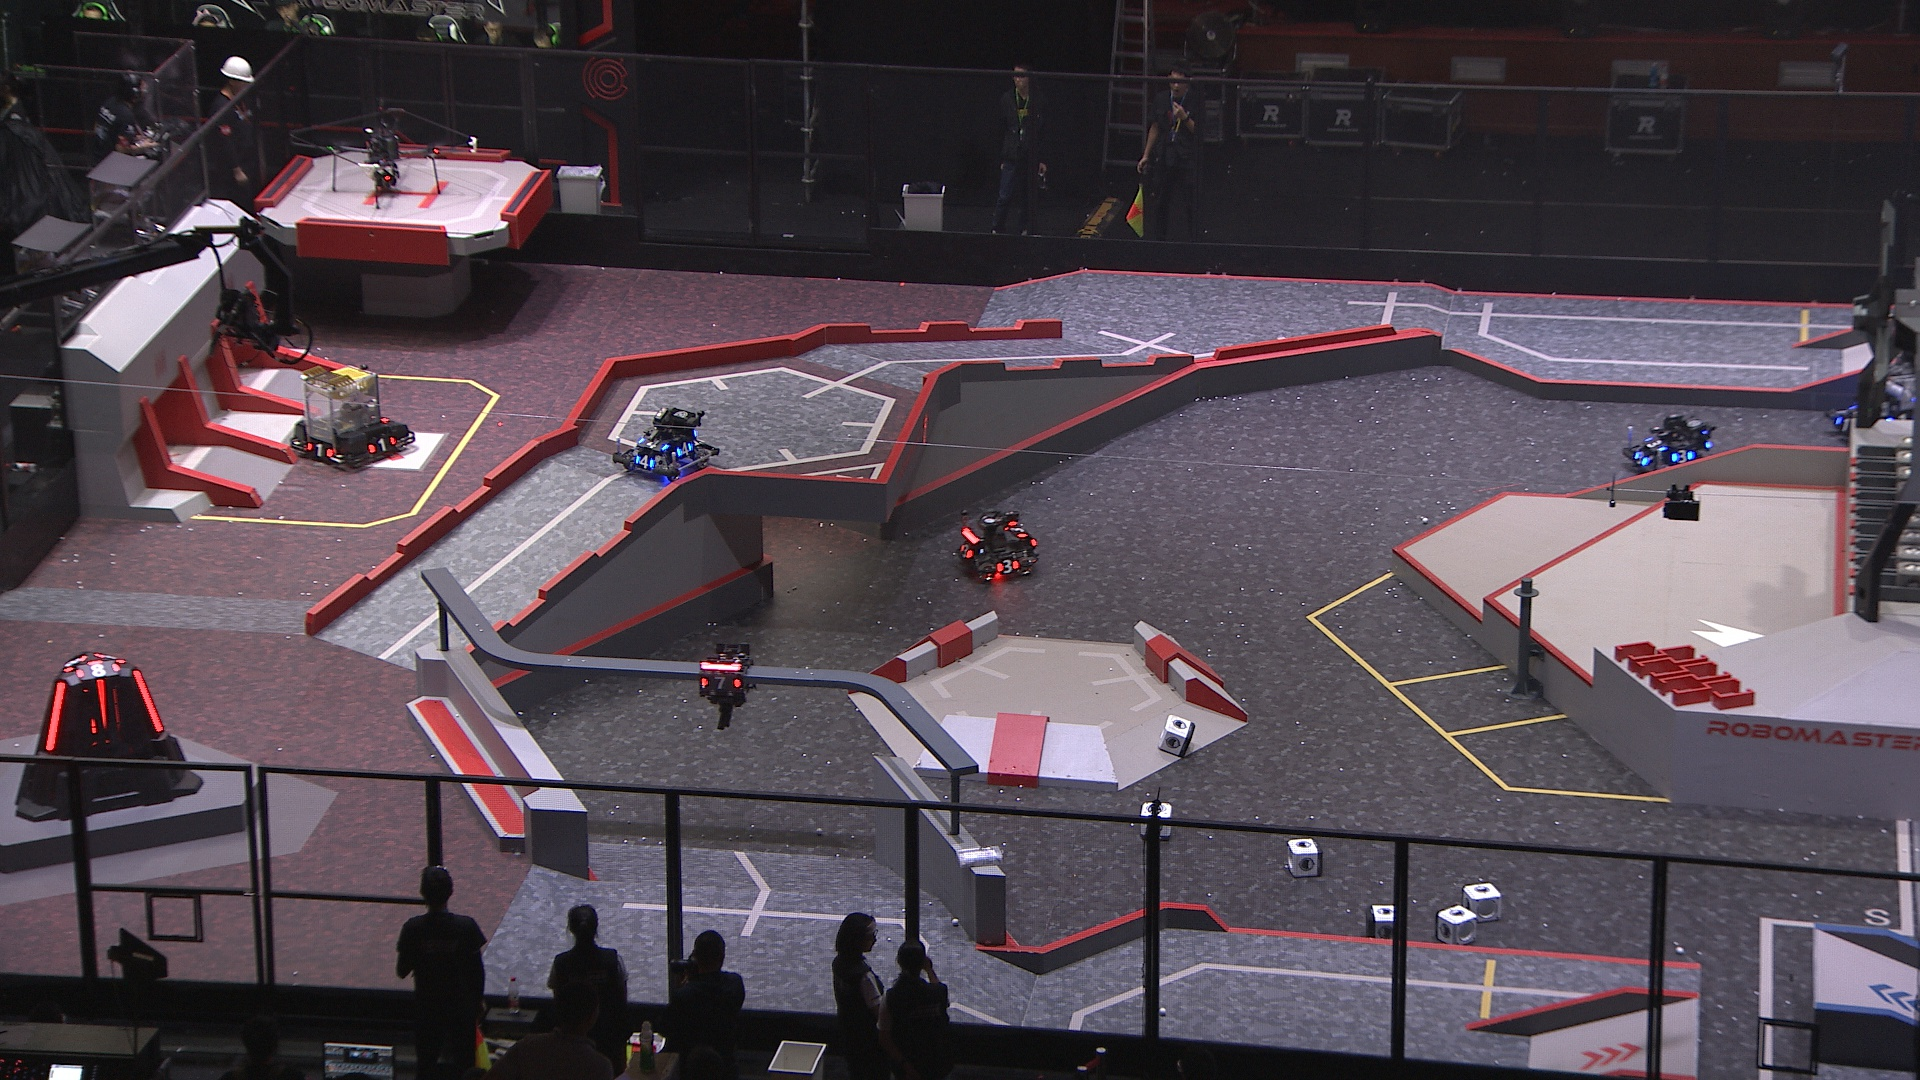armor: (131, 669, 167, 737), (41, 678, 67, 754), (94, 674, 112, 731), (71, 659, 120, 679), (699, 674, 741, 694), (363, 433, 400, 455), (989, 556, 1025, 578), (636, 431, 671, 451), (305, 440, 339, 460), (1669, 447, 1698, 465), (1005, 520, 1029, 542), (1644, 434, 1667, 454), (1633, 446, 1651, 469), (95, 651, 127, 665), (632, 454, 657, 469), (63, 654, 83, 674), (673, 439, 694, 458), (955, 541, 973, 560)
base: (11, 644, 206, 823)
car: (285, 360, 415, 471), (1826, 314, 1920, 439), (609, 404, 721, 481), (951, 504, 1040, 584), (1619, 411, 1716, 485)
watcher: (694, 637, 760, 732)
